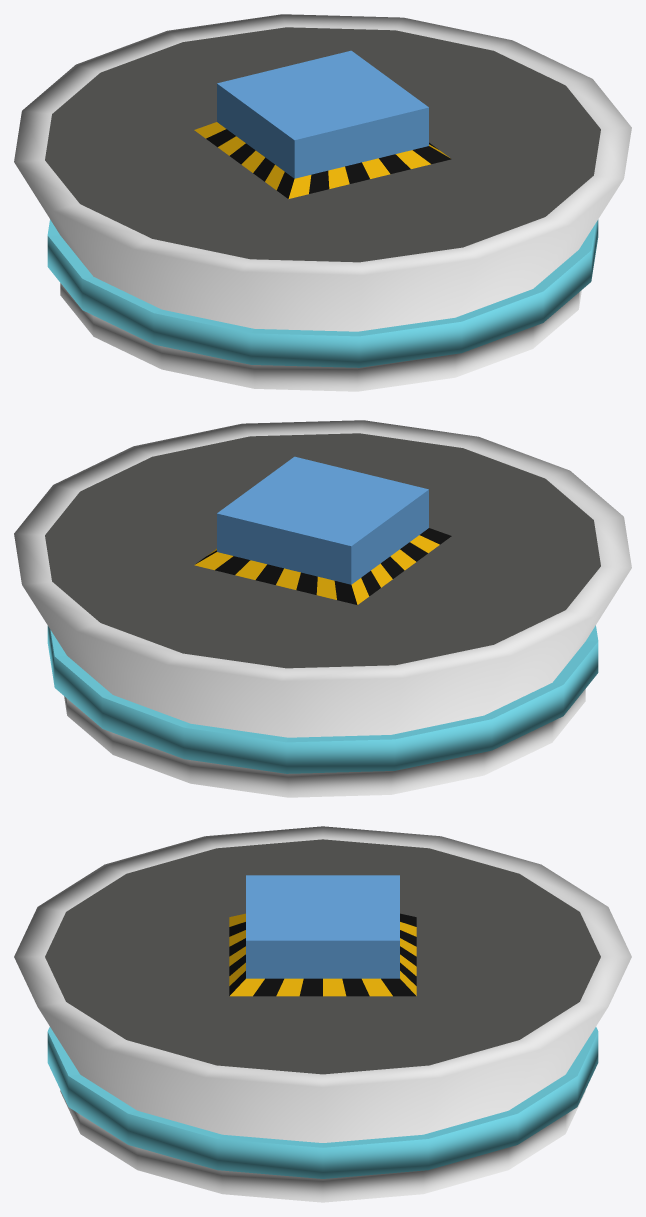
The model's file is Meeting Table.fbx.
The picture shows the model from 3 angles, top to bottom: view 1: azimuth 30°, elevation 25°; view 2: azimuth 150°, elevation 25°; view 3: azimuth 270°, elevation 25°; orthographic projection.
Visible parts, largest first — view 1: Table, Box; view 2: Table, Box; view 3: Table, Box.
Part boxes in pixels (x1,y1,x2,y2): Table: (14, 14, 631, 391); Box: (194, 50, 451, 198); Table: (14, 420, 631, 797); Box: (194, 456, 451, 604); Table: (14, 826, 631, 1202); Box: (229, 875, 416, 996).
Bounding box in the file's own units: 200 × 65.61 × 200.
